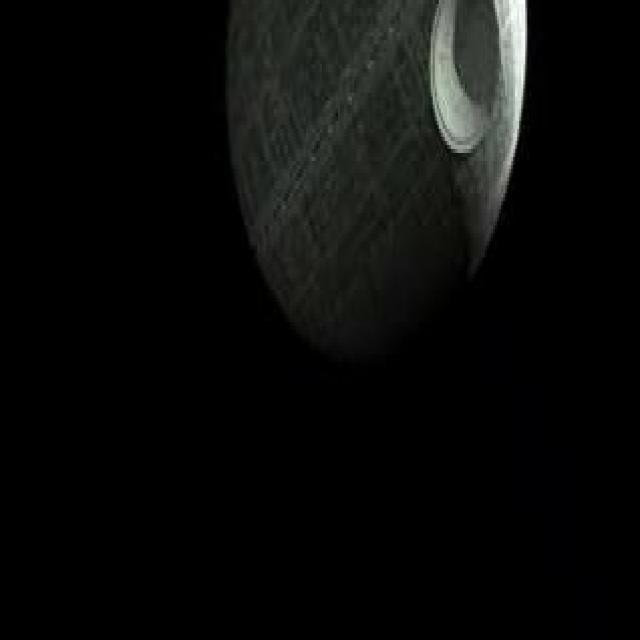deathstar: (222, 1, 527, 352)
